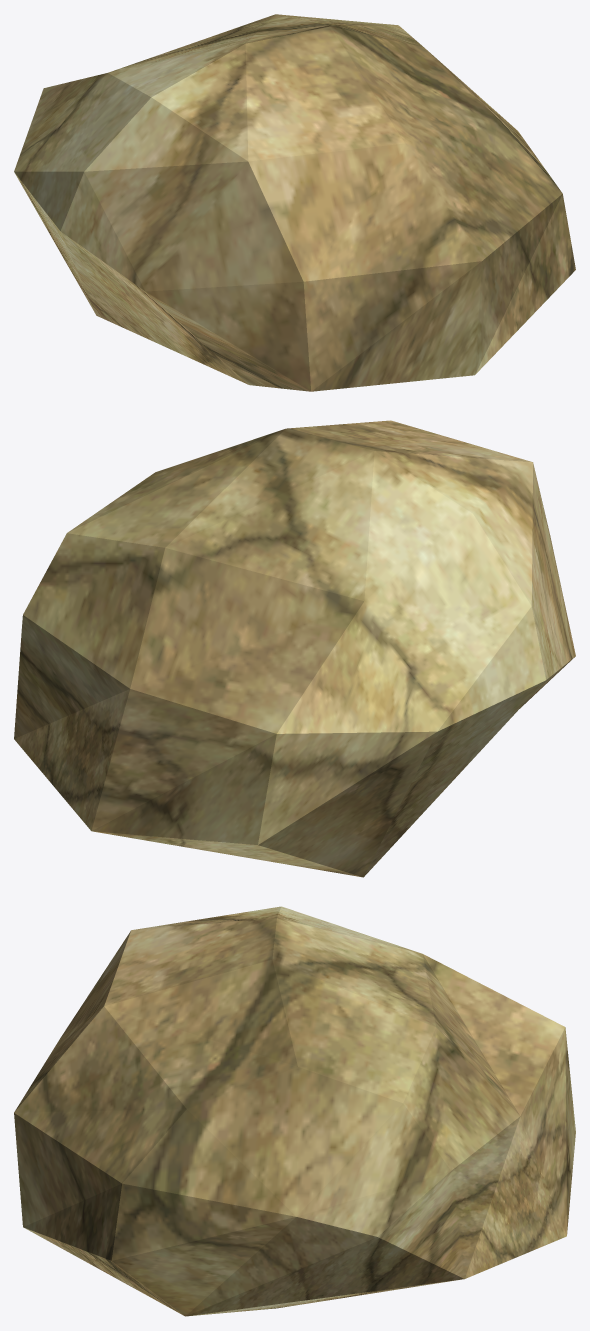
File: C3SNLARGEROCKA.obj
3 renders of one model, top to bottom at view 1: azimuth 30°, elevation 25°; view 2: azimuth 150°, elevation 25°; view 3: azimuth 270°, elevation 25°, orthographic. The views are drawn at different scales.
Visible parts, largest first — view 1: Node 0; view 2: Node 0; view 3: Node 0.
Part boxes in pixels (left/top/right/bottom): Node 0: left=14, top=14, right=575, bottom=391; Node 0: left=14, top=420, right=575, bottom=877; Node 0: left=14, top=906, right=575, bottom=1316.
Size of the model in its own units: 3.45 by 2.45 by 3.74.
Materials: 1 (1 with a texture image).
